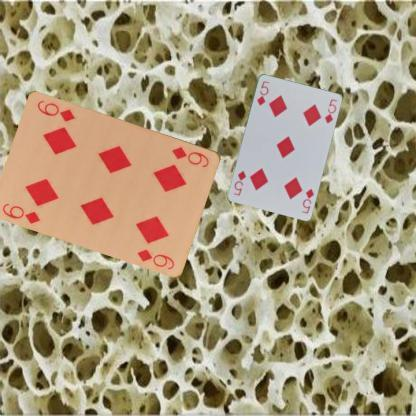5d: (254, 78, 271, 107), (299, 186, 315, 214)
6d: (0, 200, 42, 225), (170, 144, 210, 169)
